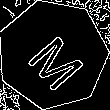M_NE: (18, 21, 87, 88)
